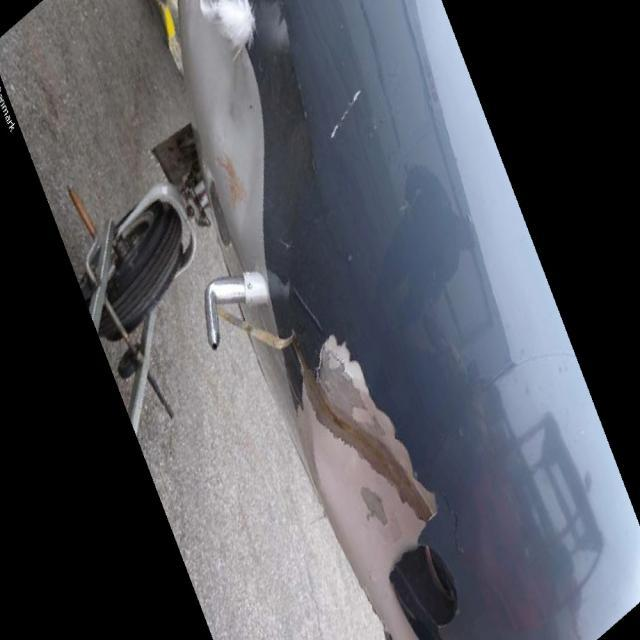crack: (441, 496, 470, 558)
dent: (314, 401, 372, 524), (215, 64, 254, 151), (244, 132, 262, 231)
